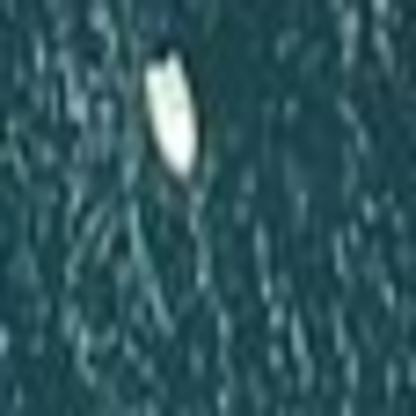ship: (127, 47, 224, 184)
